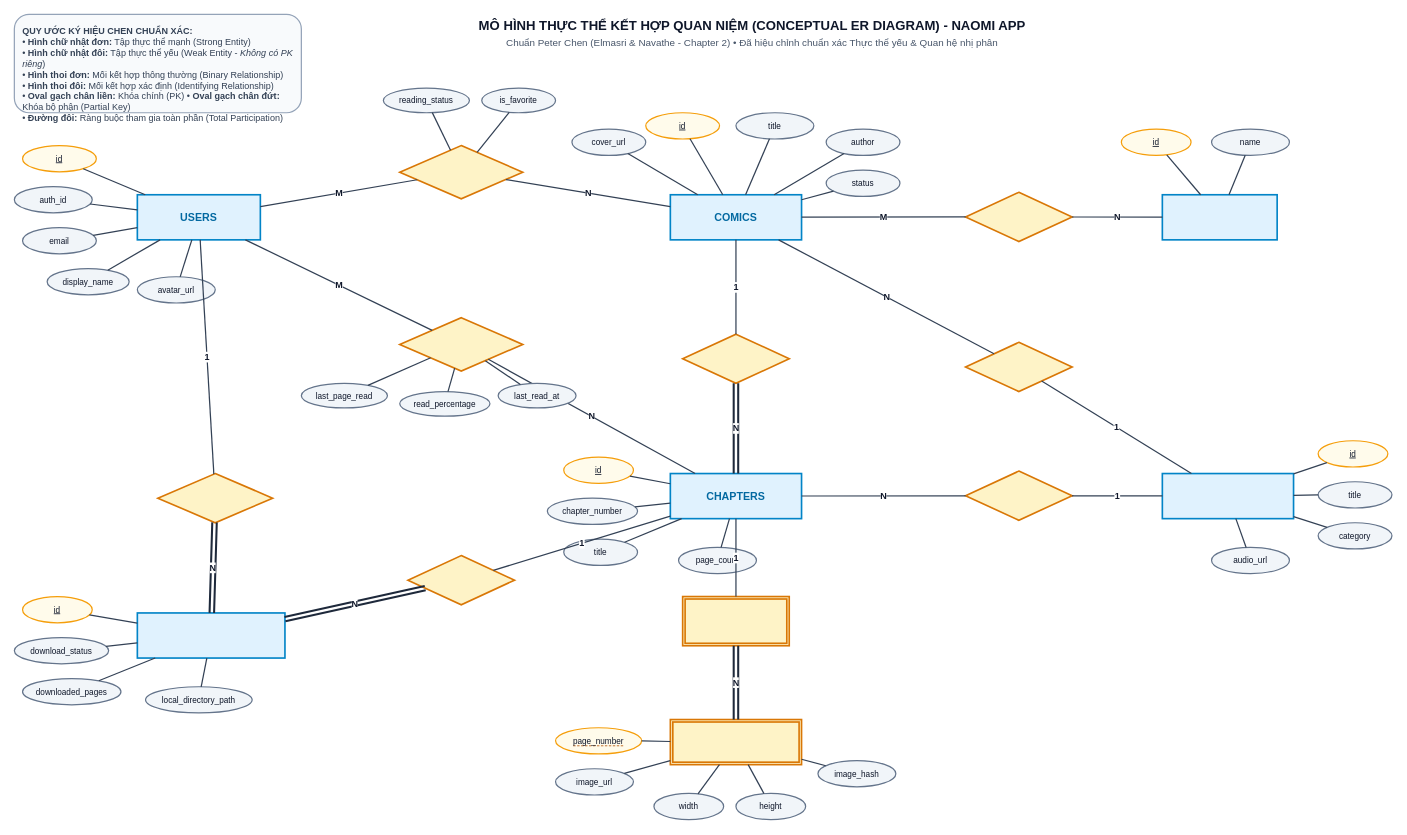
The diagram is 1407 pixels wide and 835 high, and some of its shapes have lost their labels. Each missing label, with the centre of its shape:
"AMBIENT_TRACKS" goes at [1227,495].
"CLASSIFIED_AS" goes at [1018,216].
"CONSISTS_OF" goes at [735,620].
"CONTAINS" goes at [735,358].
"DEFAULT_AUDIO" goes at [1018,366].
"DOWNLOAD_OF" goes at [461,579].
"DOWNLOADED_BY" goes at [215,497].
"GENRES" goes at [1219,217].
"OFFLINE_DOWNLOADS" goes at [210,635].
"PAGES" goes at [735,741].
"PLAYS_AUDIO" goes at [1018,495].
"SAVES_BOOKMARK" goes at [461,171].
"TRACKS_HISTORY" goes at [461,344].
